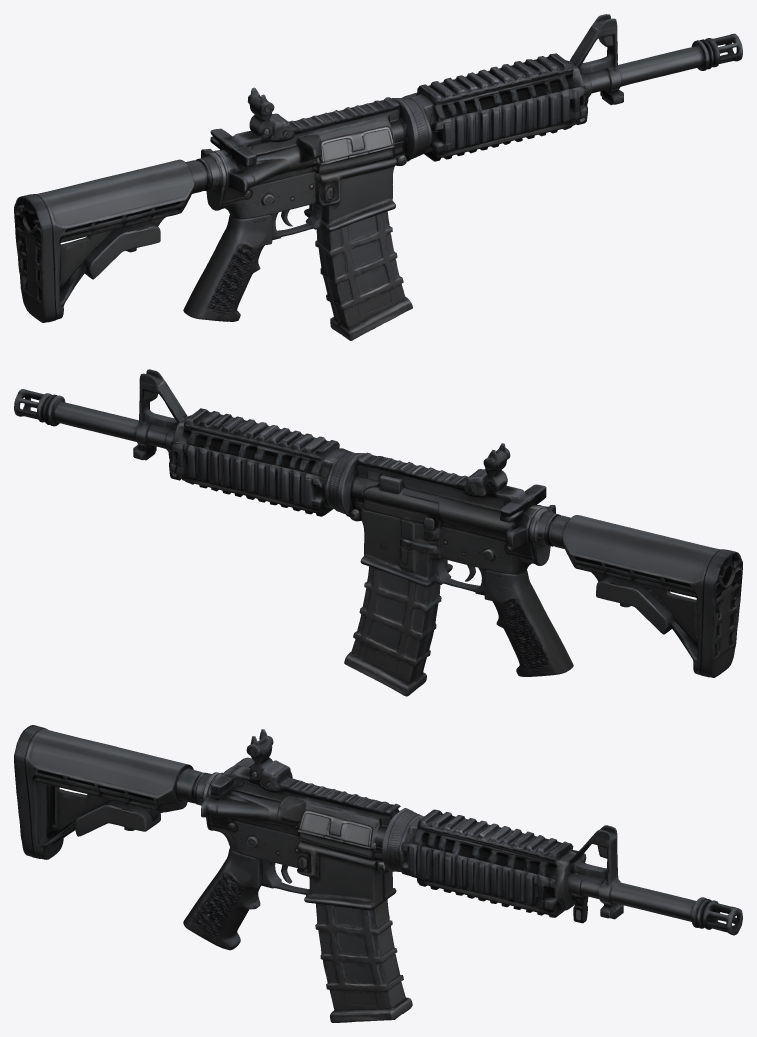
The model's file is rifle_prev.glb.
3 views of the same model, one above another, from view 1: azimuth 30°, elevation 25°; view 2: azimuth 150°, elevation 25°; view 3: azimuth 330°, elevation 25° (orthographic).
Parts seen in each view (by area): view 1: tripo_node_205c0e2f-531b-4bdb-82c2-e799992940b7; view 2: tripo_node_205c0e2f-531b-4bdb-82c2-e799992940b7; view 3: tripo_node_205c0e2f-531b-4bdb-82c2-e799992940b7.
Boxes of the visible parts, <box> form: tripo_node_205c0e2f-531b-4bdb-82c2-e799992940b7: <box>14,14,742,340</box>; tripo_node_205c0e2f-531b-4bdb-82c2-e799992940b7: <box>14,369,742,696</box>; tripo_node_205c0e2f-531b-4bdb-82c2-e799992940b7: <box>14,725,742,1022</box>.
Size of the model in its own units: 0.9998 by 0.3559 by 0.1069.
Materials: 1 (1 with a texture image).
